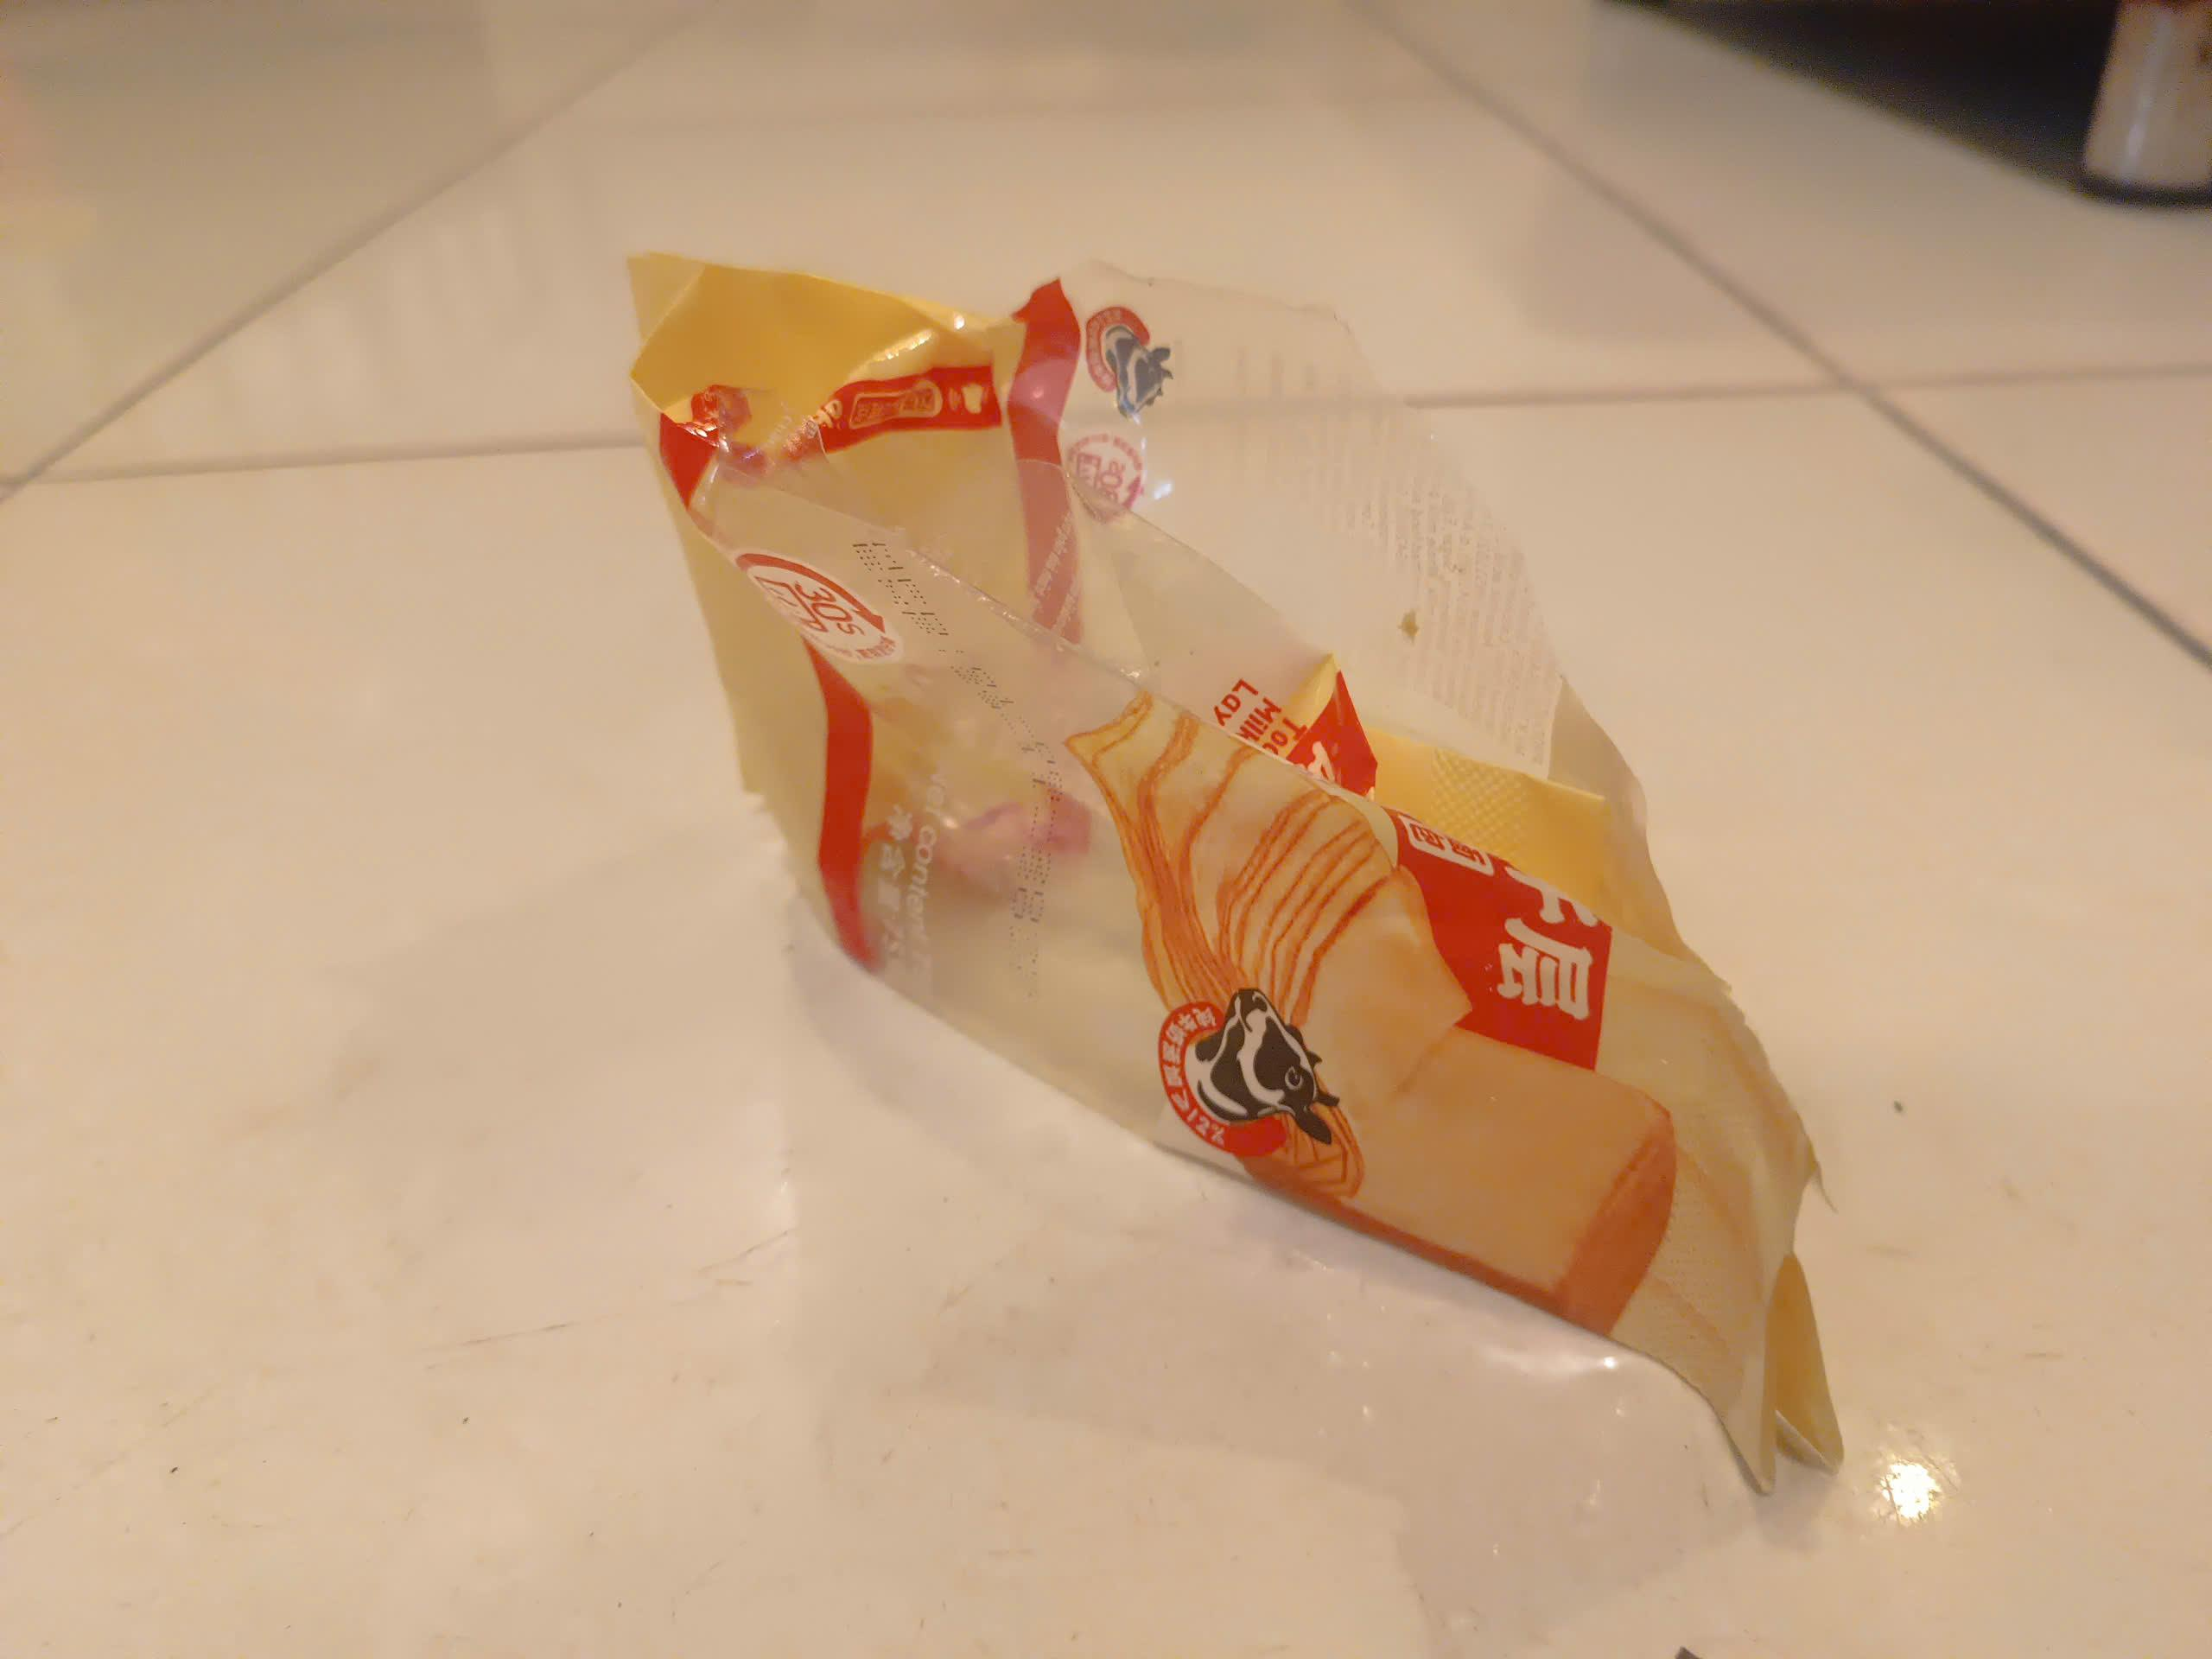Vo co: (634, 251, 1848, 1490)
